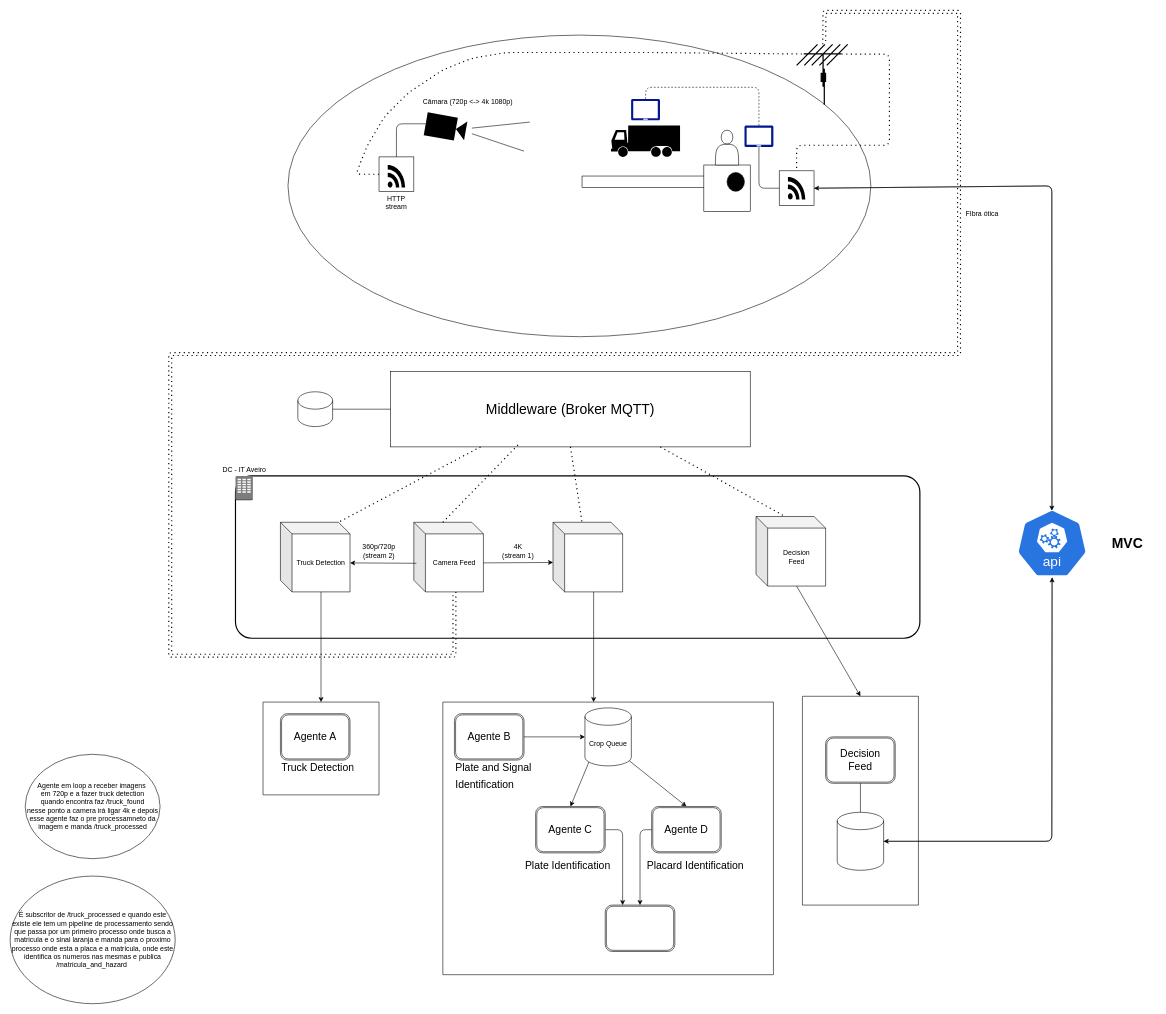
Some shapes in this 1166 by 1014 pixel diagram are drawn without their labels. The shapes that lost their labels are listed below. From the top down, each one's centre as x and y in pixels, then its label:
At point 822,74: "Antena 5G".
At point 645,181: "Cancela do porto".
At point 315,409: "Cache Global".
At point 587,557: "Truck Specifications".
At point 860,841: "Database Trucks Authorized".
At point 640,928: "Consenso Decision".
